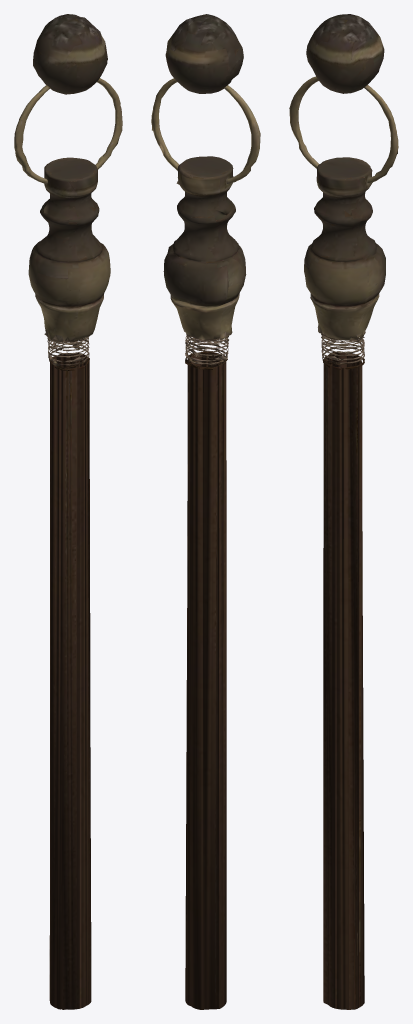
File: wand.glb
The picture shows the model from 3 angles, left to right: view 1: azimuth 30°, elevation 25°; view 2: azimuth 150°, elevation 25°; view 3: azimuth 330°, elevation 25°; orthographic projection.
Visible parts, largest first — view 1: midway-fit; view 2: midway-fit; view 3: midway-fit.
Part boxes in pixels (<box>): midway-fit: <box>14,14,122,1009</box>; midway-fit: <box>151,14,260,1009</box>; midway-fit: <box>289,14,398,1009</box>.
Bounding box in the file's own units: 0.1145 × 1 × 0.0755.
Materials: 1 (1 with a texture image).
